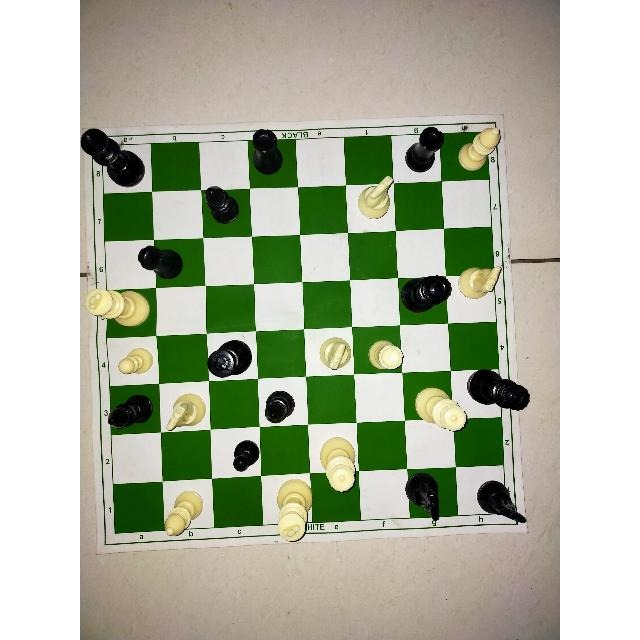black-bishop: (101, 386, 155, 434), (200, 182, 245, 230), (262, 384, 298, 428)
black-king: (81, 124, 147, 188), (204, 336, 254, 381)
black-knight: (473, 475, 530, 530), (399, 473, 451, 525)
black-pawn: (226, 435, 263, 475)
black-queen: (467, 365, 533, 413), (398, 274, 452, 316)
black-rook: (404, 124, 448, 176), (135, 245, 187, 283), (251, 124, 287, 178)
white-bishop: (454, 124, 503, 176), (162, 485, 205, 543)
white-king: (83, 285, 155, 330), (276, 479, 312, 545)
white-knight: (456, 260, 504, 302), (355, 173, 396, 222), (164, 390, 207, 434), (314, 332, 356, 374)
white-pawn: (115, 345, 155, 381)
white-queen: (412, 384, 472, 434), (318, 435, 362, 494)
white-rook: (365, 336, 406, 375)
